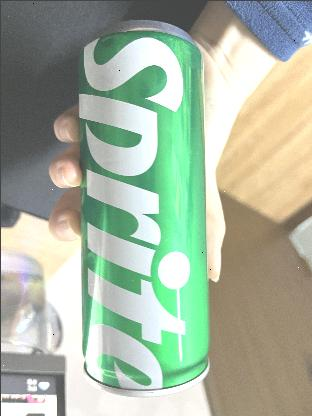Can: (73, 17, 214, 395)
